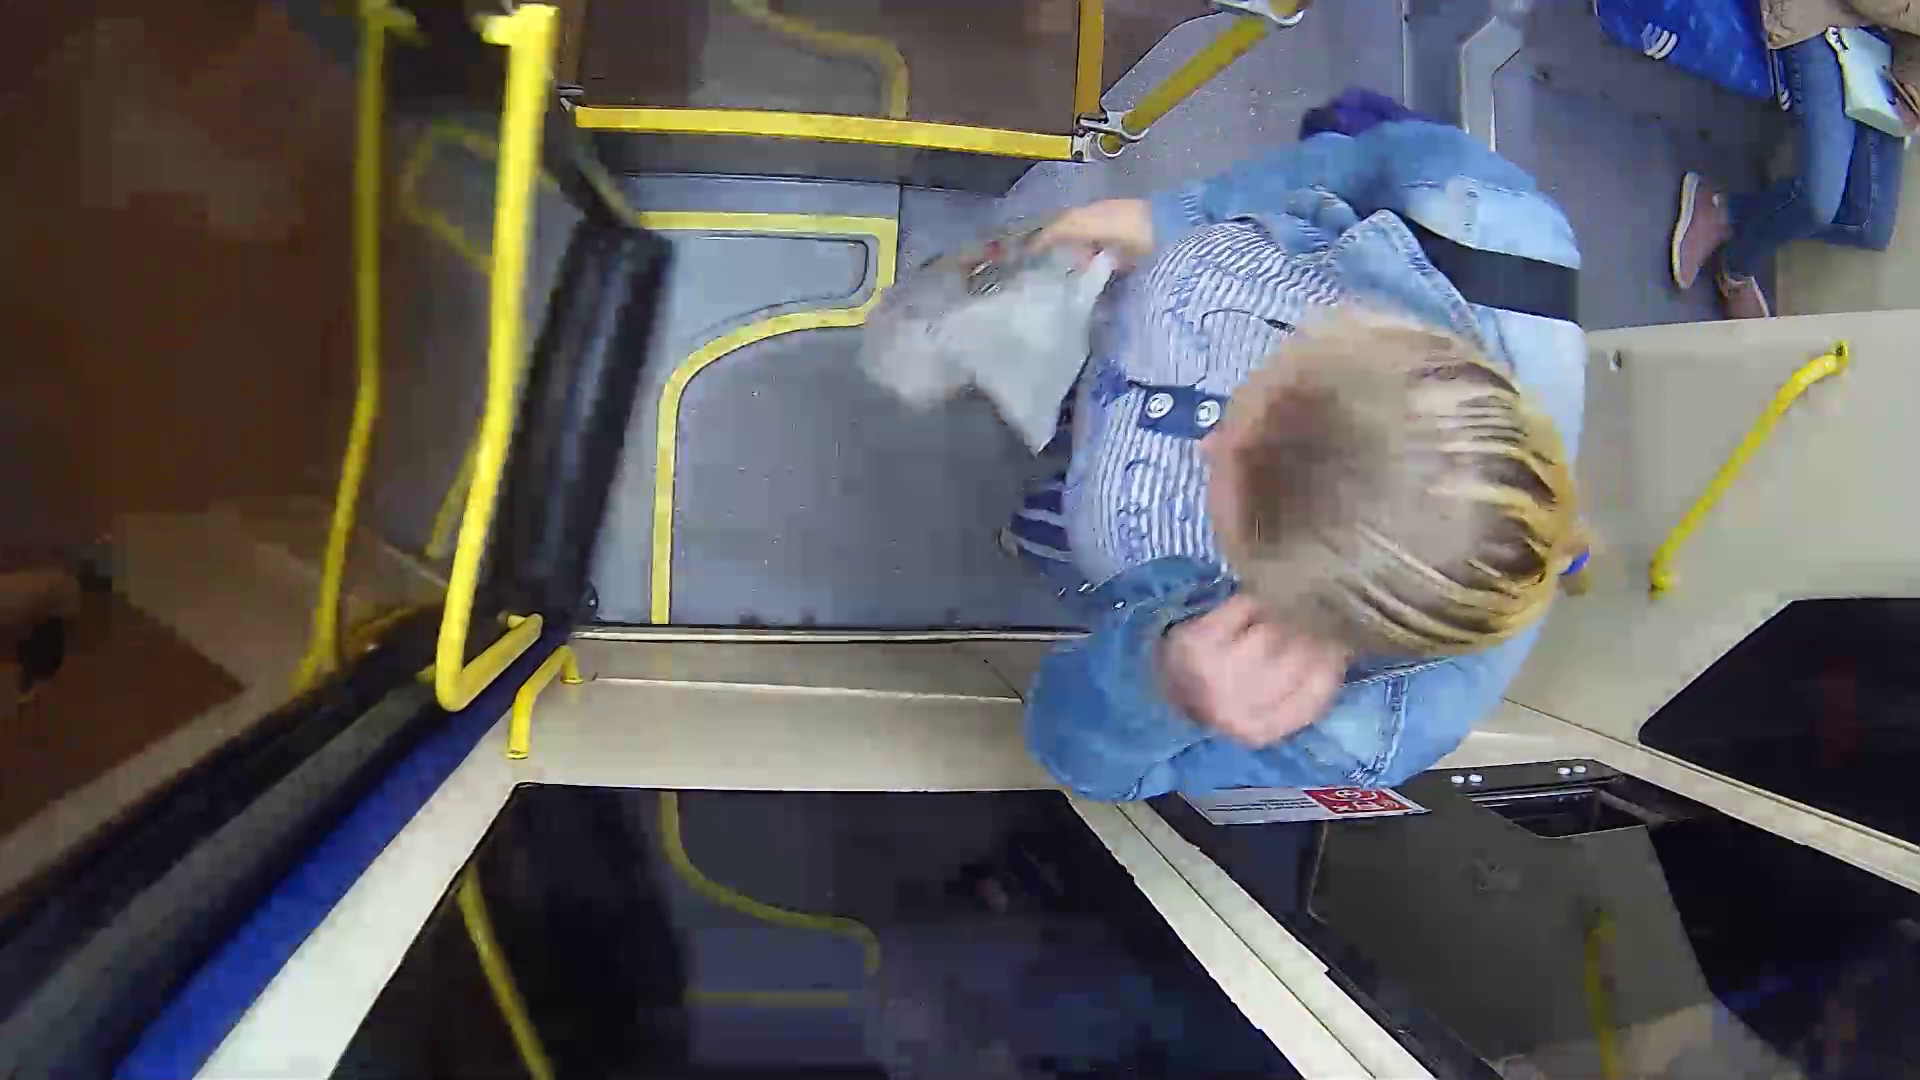person: (842, 128, 1624, 814)
